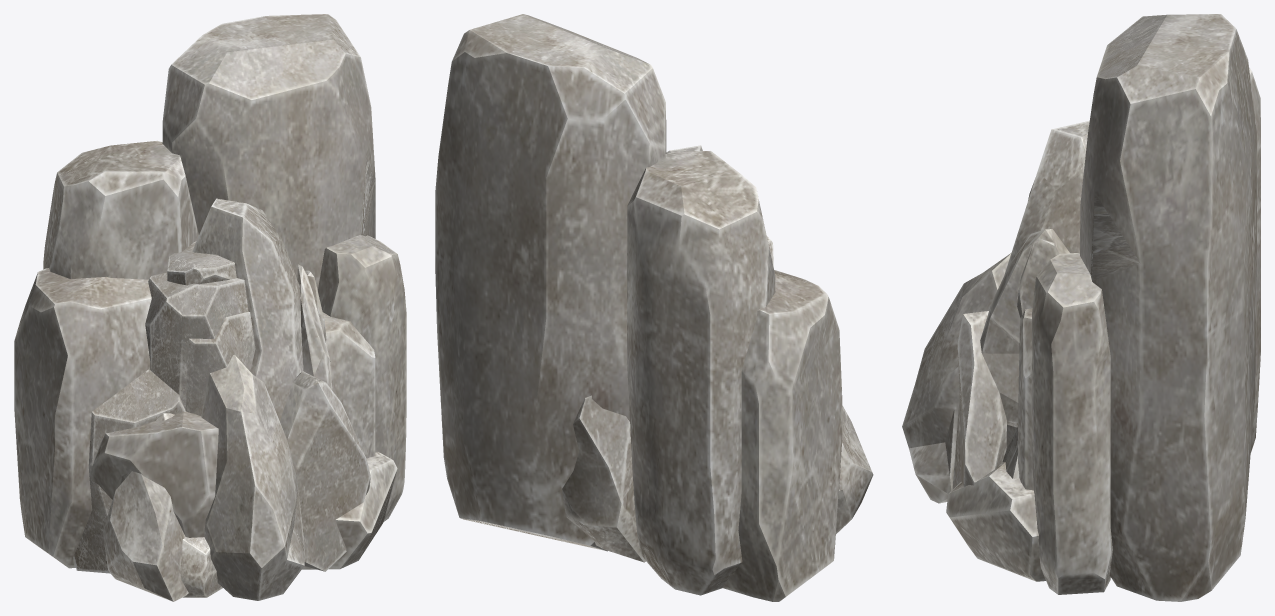
File: tall_rocks_1.glb
The picture shows the model from 3 angles, left to right: view 1: azimuth 30°, elevation 25°; view 2: azimuth 150°, elevation 25°; view 3: azimuth 270°, elevation 25°; orthographic projection. The views are drawn at different scales.
Parts seen in each view (by area): view 1: tall_rockgroup_6, tall_rockgroup_9, tall_rockgroup_5, tall_rock_8; view 2: tall_rockgroup_6, tall_rockgroup_9; view 3: tall_rockgroup_6, tall_rockgroup_9.
Part boxes in pixels (x1,y1,x2,y2): tall_rockgroup_6: (14,14,406,569); tall_rockgroup_9: (102,198,370,601); tall_rockgroup_5: (73,241,248,597); tall_rock_8: (185,311,255,413); tall_rockgroup_6: (435,14,842,601); tall_rockgroup_9: (562,145,873,562); tall_rockgroup_6: (946,14,1260,601); tall_rockgroup_9: (902,121,1089,503).
Size of the model in its own units: 6.23 by 8.24 by 5.06.
4 materials, 4 textured.
